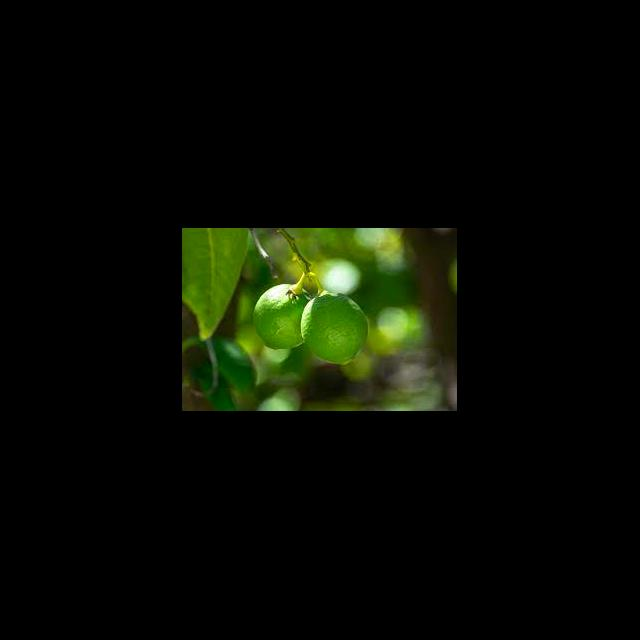lime: (300, 292, 370, 366), (254, 284, 316, 350)
